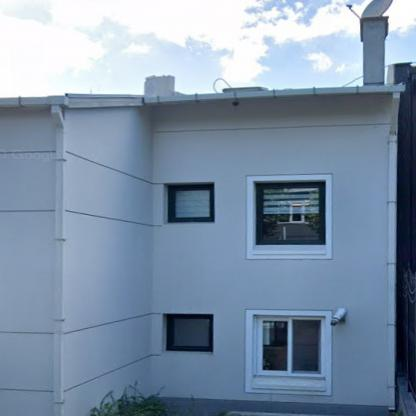window: (258, 318, 322, 374), (261, 184, 319, 242), (168, 187, 210, 220), (169, 316, 210, 348)
